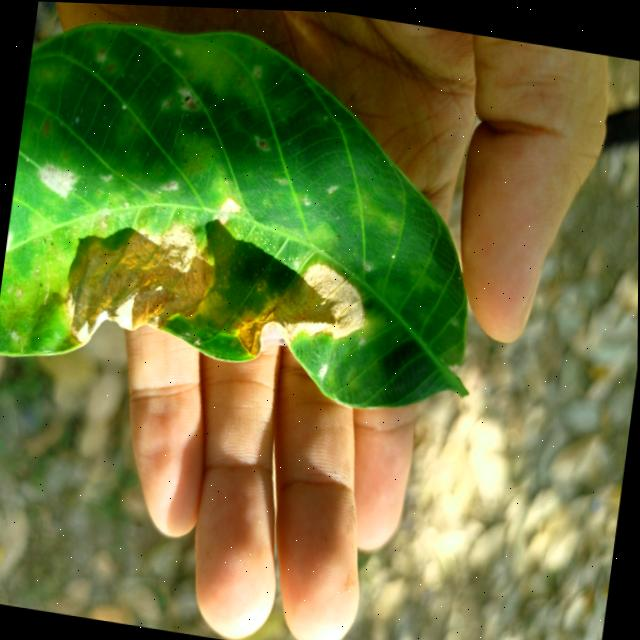Leaf-Blight: (60, 208, 216, 362), (235, 249, 371, 368)
